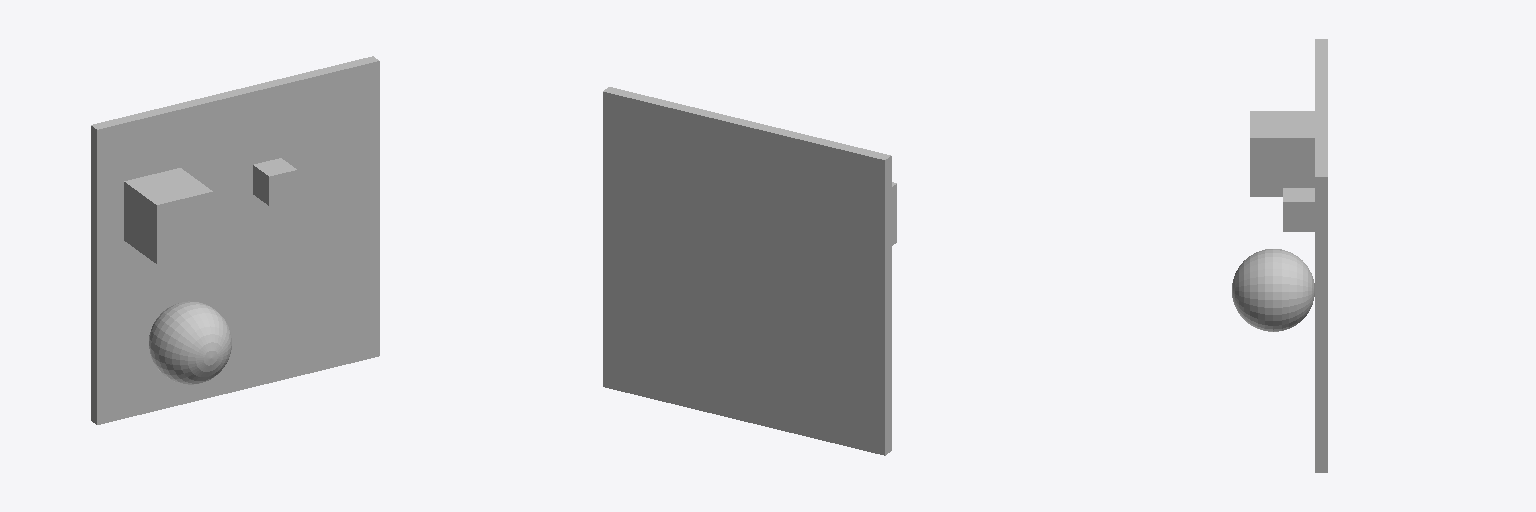
File: testScene.obj
3 renders of one model, left to right at view 1: azimuth 30°, elevation 25°; view 2: azimuth 150°, elevation 25°; view 3: azimuth 270°, elevation 25°, orthographic.
Visible parts, largest first — view 1: testScene; view 2: testScene; view 3: testScene.
Part boxes in pixels (x1,y1,x2,y2): testScene: (91, 56, 379, 424); testScene: (603, 87, 896, 455); testScene: (1232, 39, 1327, 472).
Bounding box in the file's own units: 98.43 × 98.43 × 29.12.